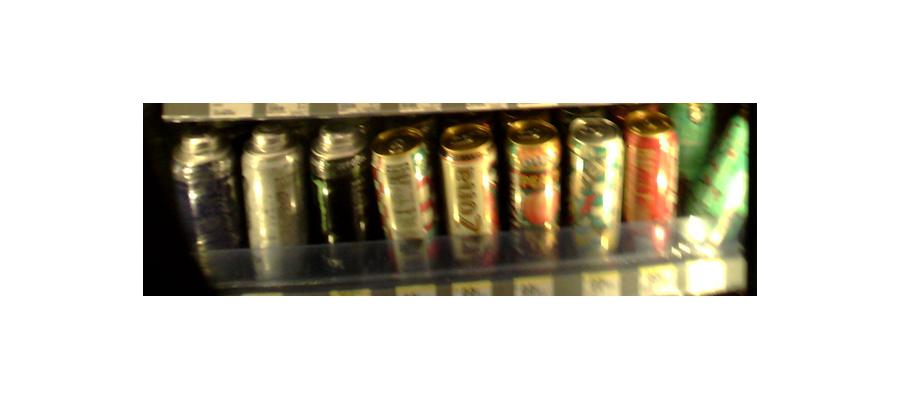bottle: (686, 101, 754, 264), (242, 128, 309, 279), (173, 125, 238, 271), (373, 133, 437, 279), (439, 128, 499, 273), (308, 125, 367, 272), (504, 121, 563, 265), (567, 116, 622, 262), (624, 111, 676, 255)
